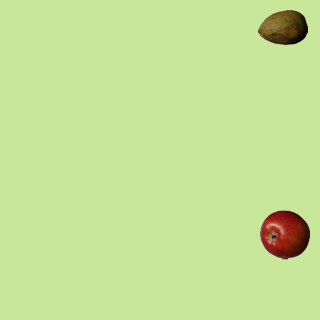Apple Braeburn: (259, 209, 309, 259)
Papaya: (257, 2, 307, 52)
